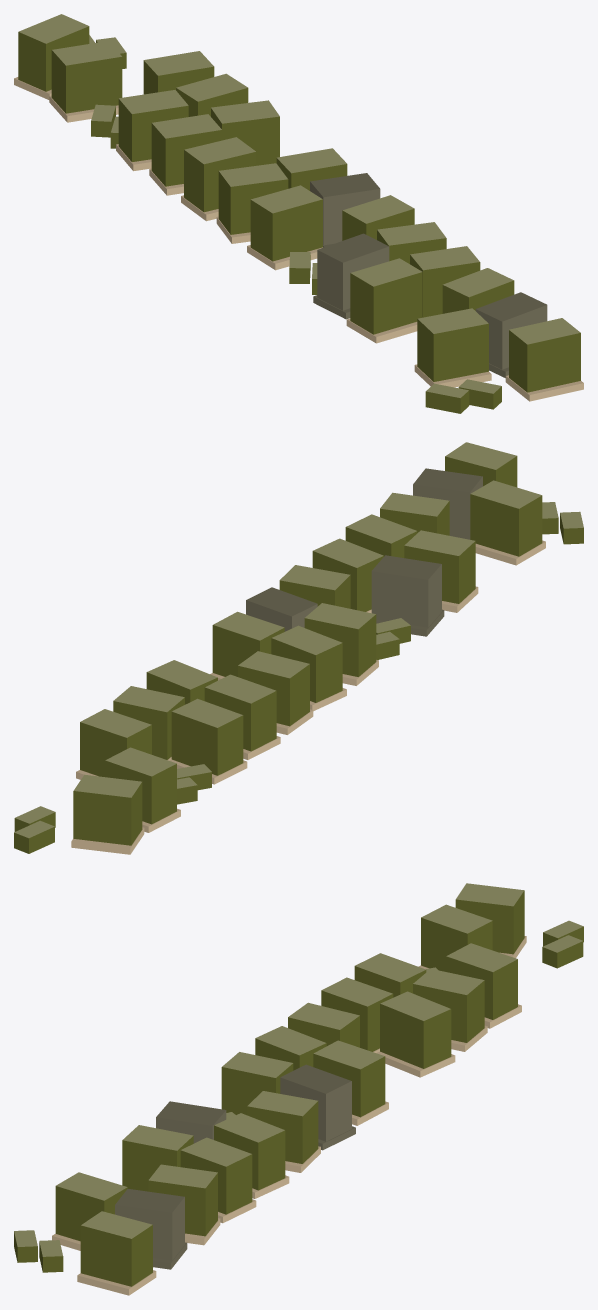
Rendered from SM_CargaMunicion_Danado_LOD1.fbx.
3 views of the same model, one above another, from view 1: azimuth 30°, elevation 25°; view 2: azimuth 150°, elevation 25°; view 3: azimuth 330°, elevation 25° (orthographic).
Visible parts, largest first — view 1: SM_carga_vagon_v3_LOD1; view 2: SM_carga_vagon_v3_LOD1; view 3: SM_carga_vagon_v3_LOD1.
Boxes of the visible parts, box(x1,y1,x2,y2) form: SM_carga_vagon_v3_LOD1: box(14, 14, 583, 413); SM_carga_vagon_v3_LOD1: box(14, 442, 583, 854); SM_carga_vagon_v3_LOD1: box(14, 883, 583, 1295).
Size of the model in its own units: 3.21 by 1.18 by 18.73.
